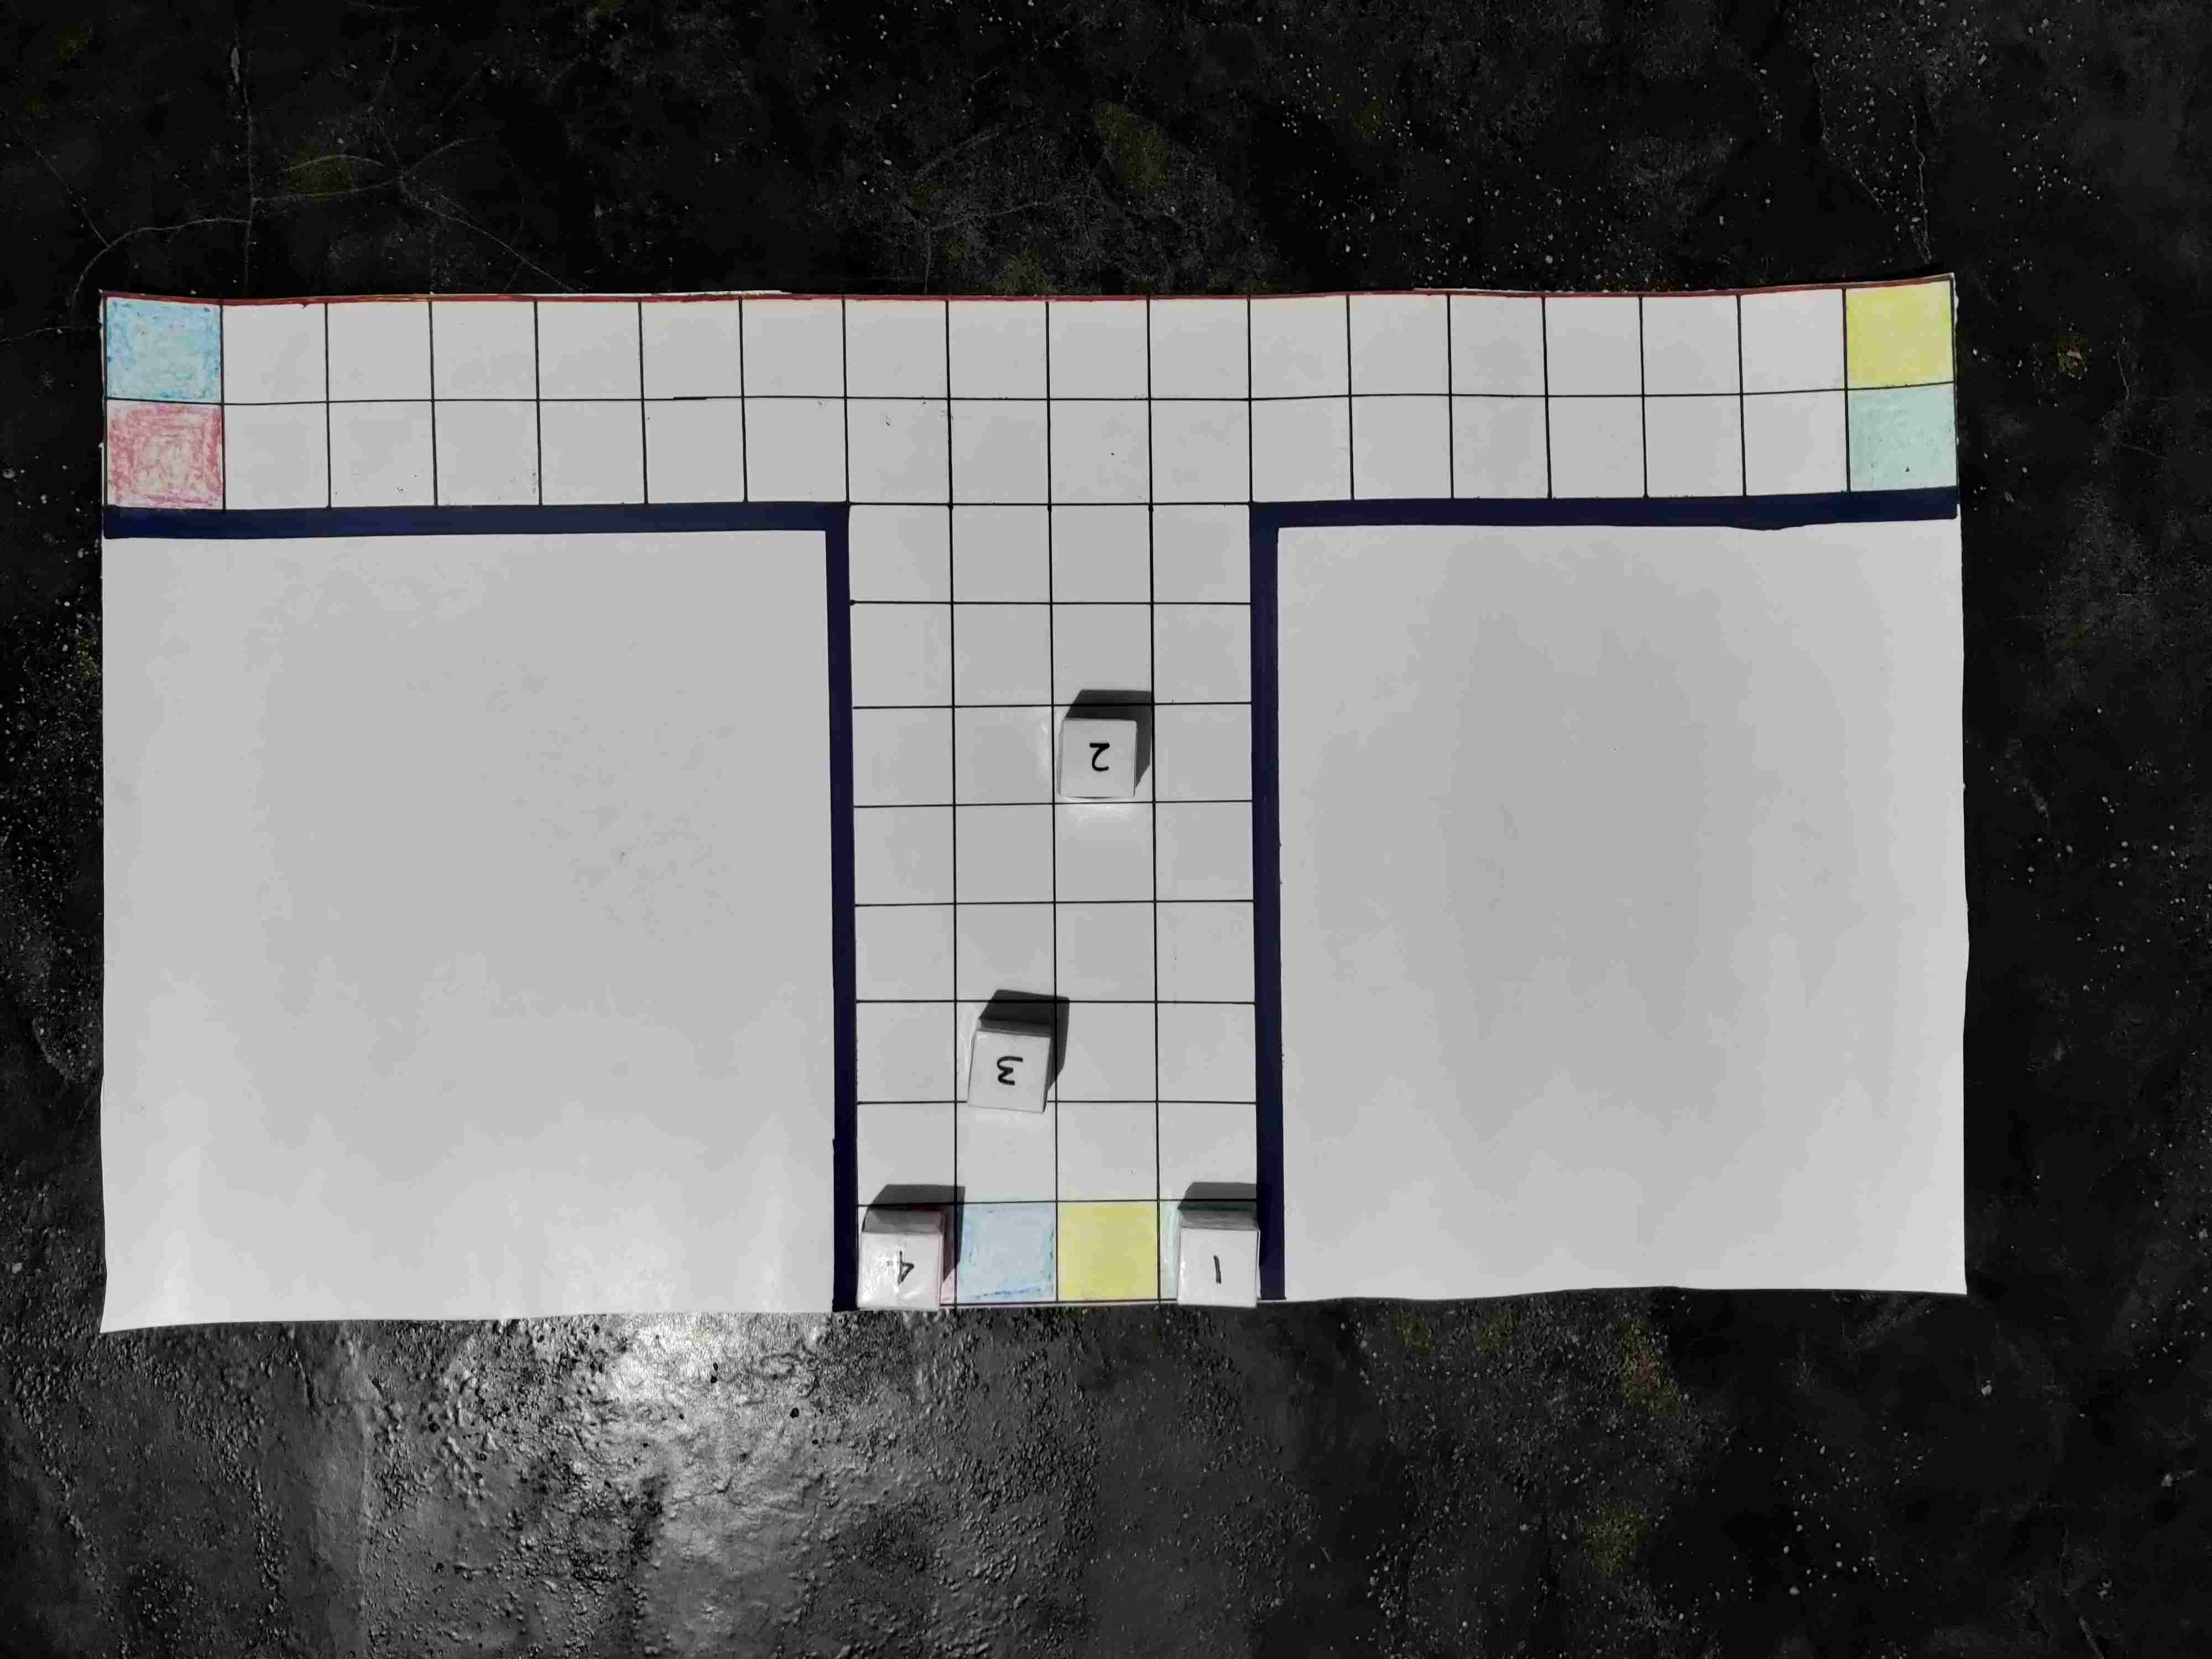arena: (101, 289, 1975, 1317)
bot: (862, 1232, 944, 1310), (970, 1032, 1054, 1108), (1177, 1232, 1259, 1307), (1059, 720, 1141, 793)
